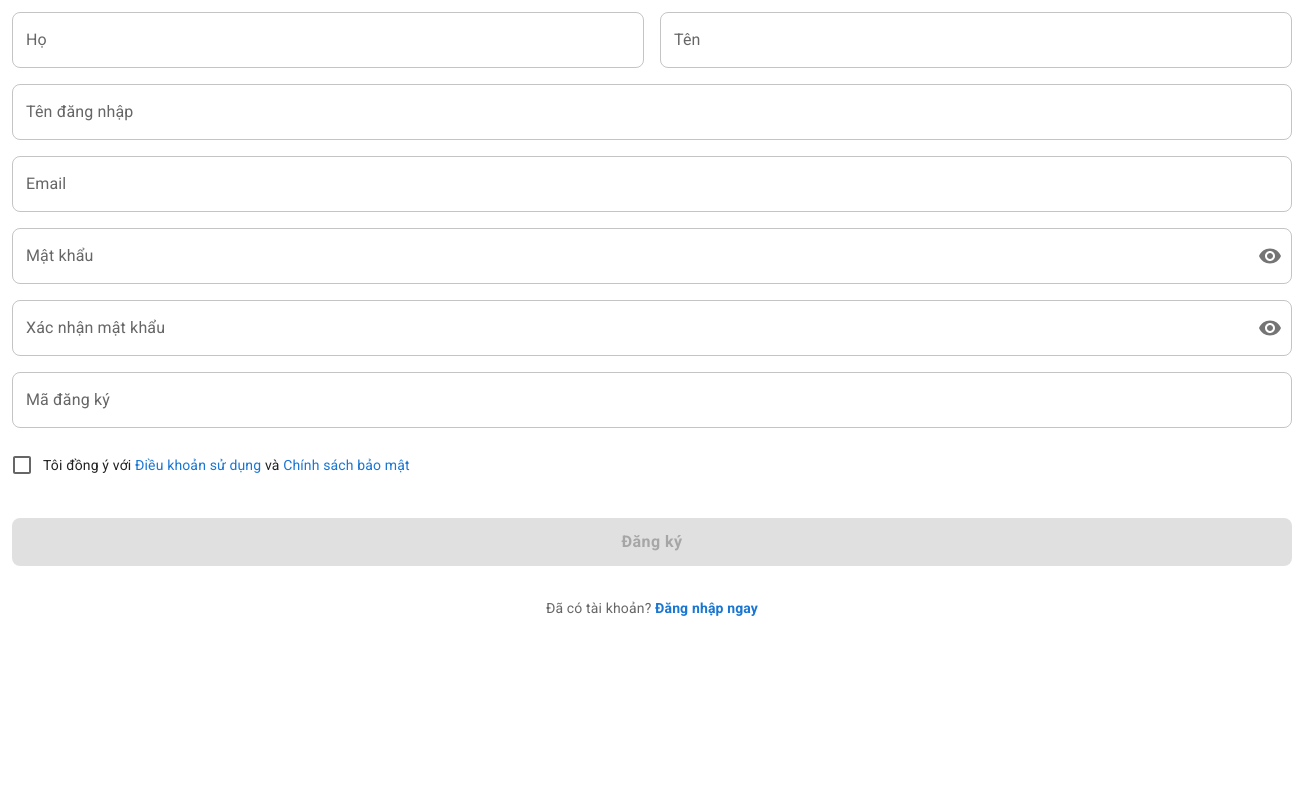
RegisterForm Component › Form Validation › should validate email format
Type "invalid-email" into the field with test id "email-input". click: (652, 184)
box: [12, 156, 1292, 212]
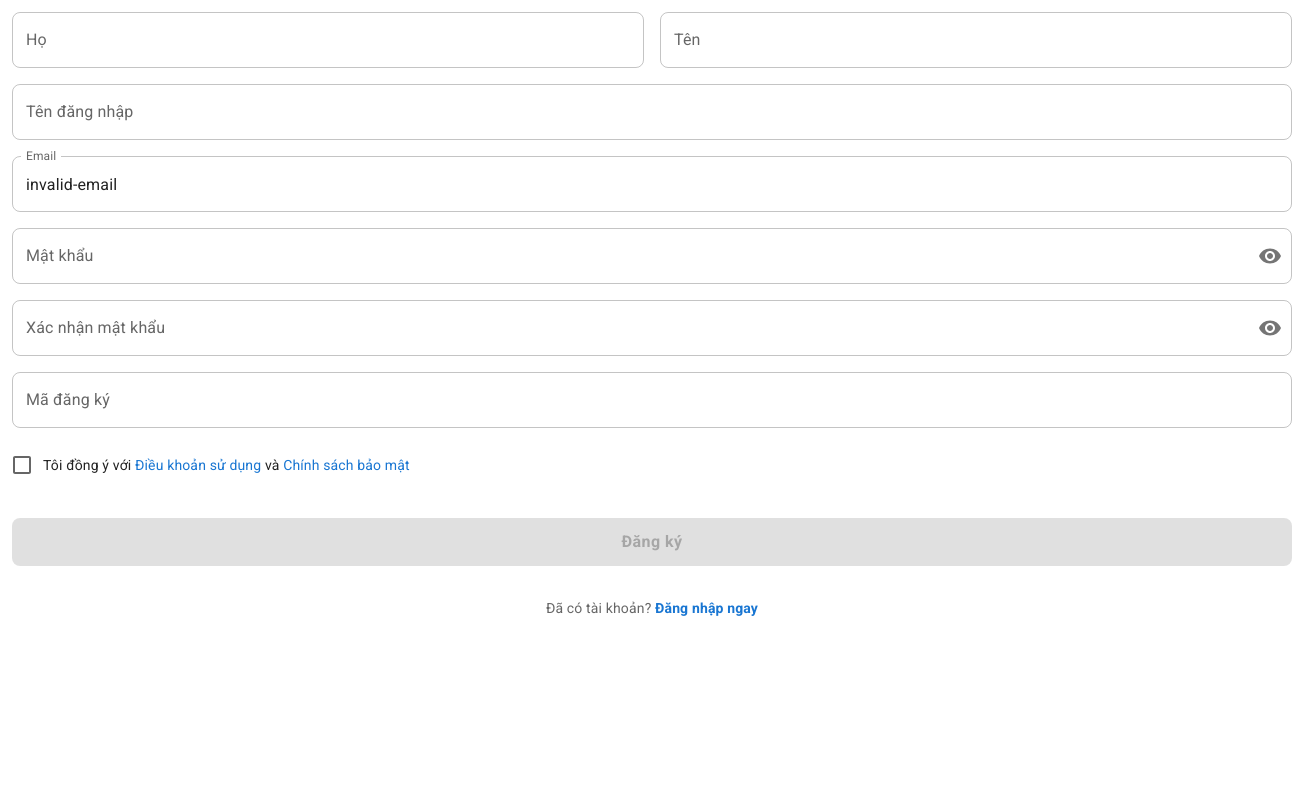
Leave the field with test id "email-input", box [12, 156, 1292, 212]
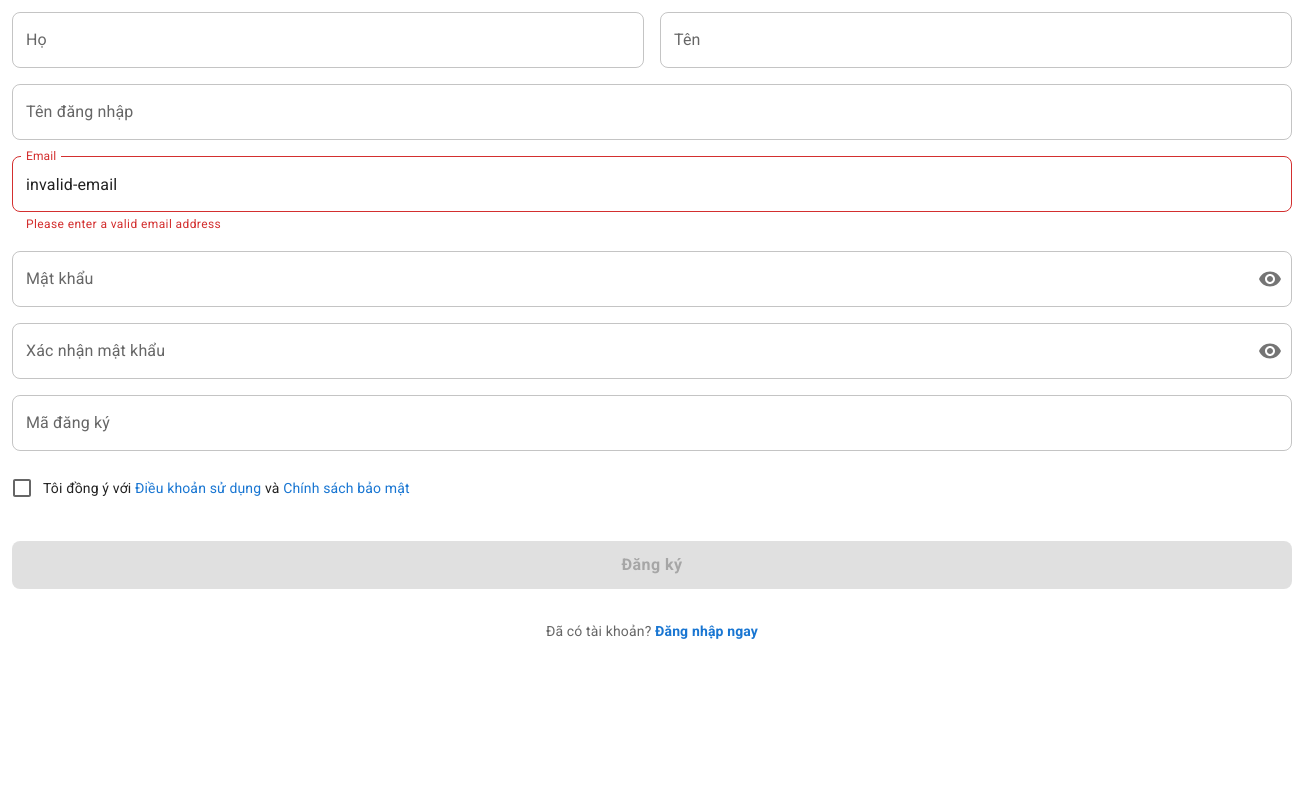
Now the text "Please enter a valid email address" is shown, box [26, 217, 221, 231]
